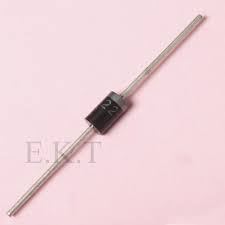diode: (66, 76, 149, 161)
